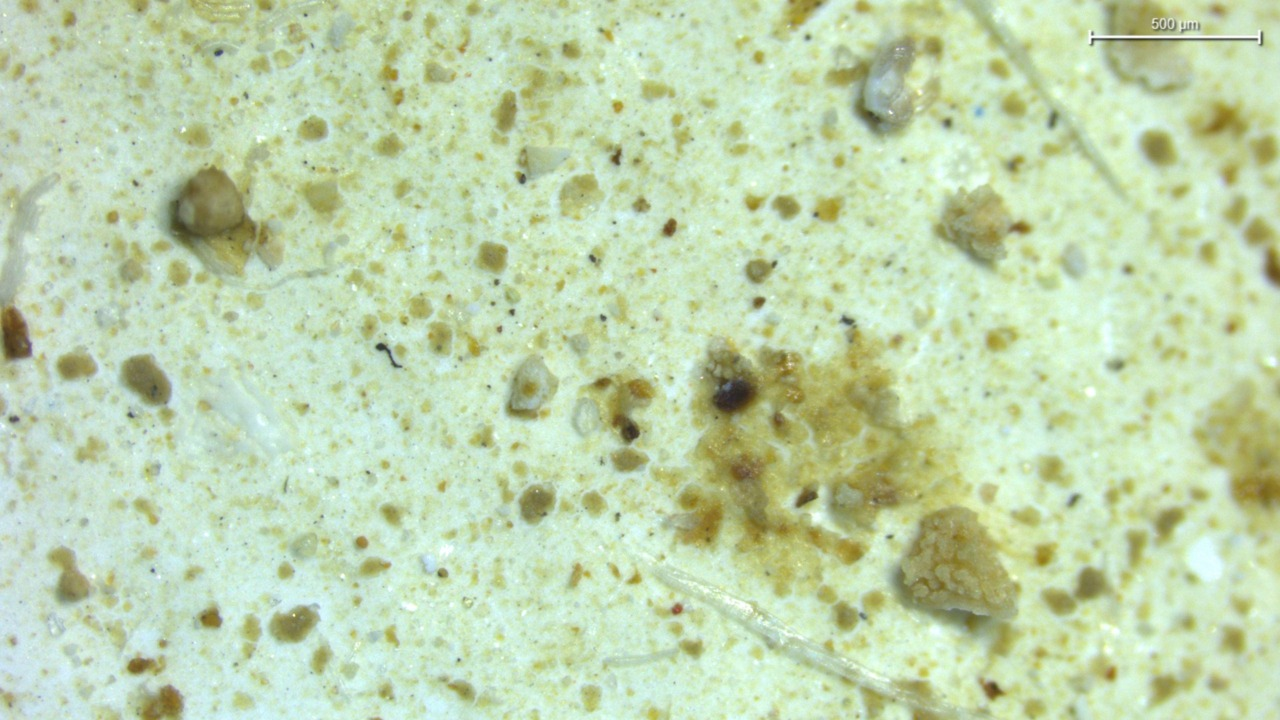microplastic_fragment: (900, 507, 1016, 618), (863, 38, 915, 123), (508, 356, 558, 412), (572, 397, 600, 436)
